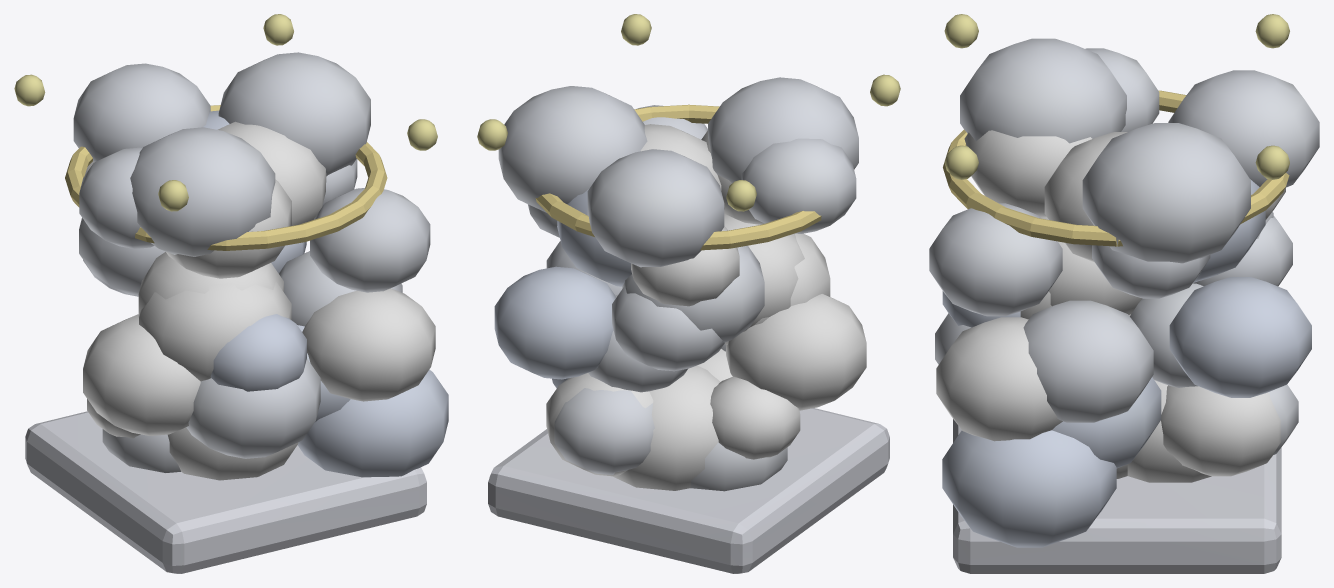
Rendered from gym_wall_sky_lite.glb.
3 renders of one model, left to right at view 1: azimuth 30°, elevation 25°; view 2: azimuth 150°, elevation 25°; view 3: azimuth 270°, elevation 25°, orthographic. The views are drawn at different scales.
Parts seen in each view (by area): view 1: Cube; view 2: Cube; view 3: Cube.
Boxes of the visible parts, box(x1,y1,x2,y2) form: Cube: box(14, 14, 448, 573); Cube: box(477, 14, 900, 573); Cube: box(929, 14, 1319, 573).
Bounding box in the file's own units: 2.3 × 2.76 × 2.26.
